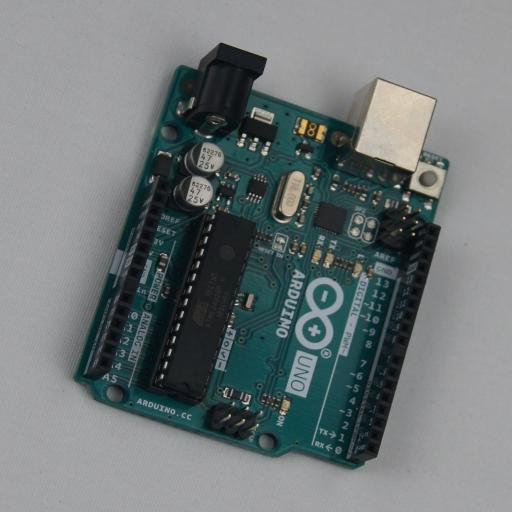Arduino Uno -Green-: (72, 42, 449, 470)
